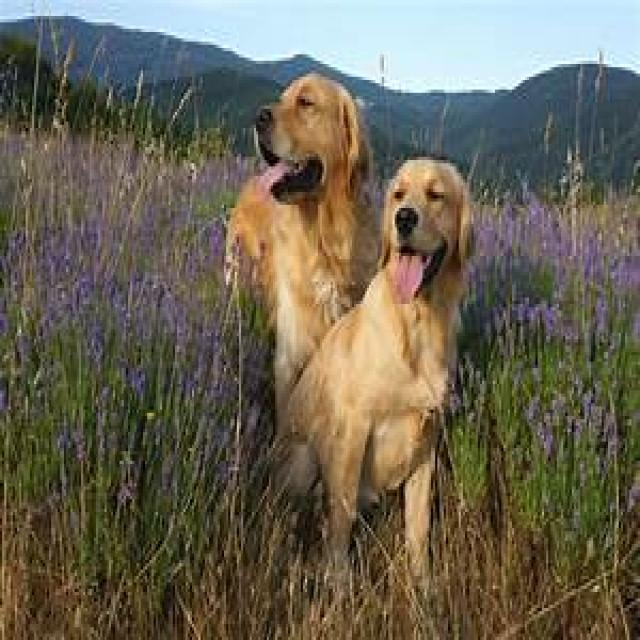dog: (288, 158, 472, 577), (229, 73, 378, 436)
